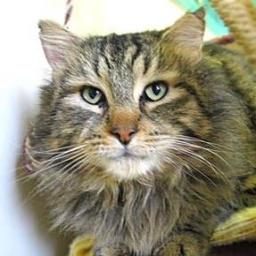cat: (17, 20, 256, 256)
